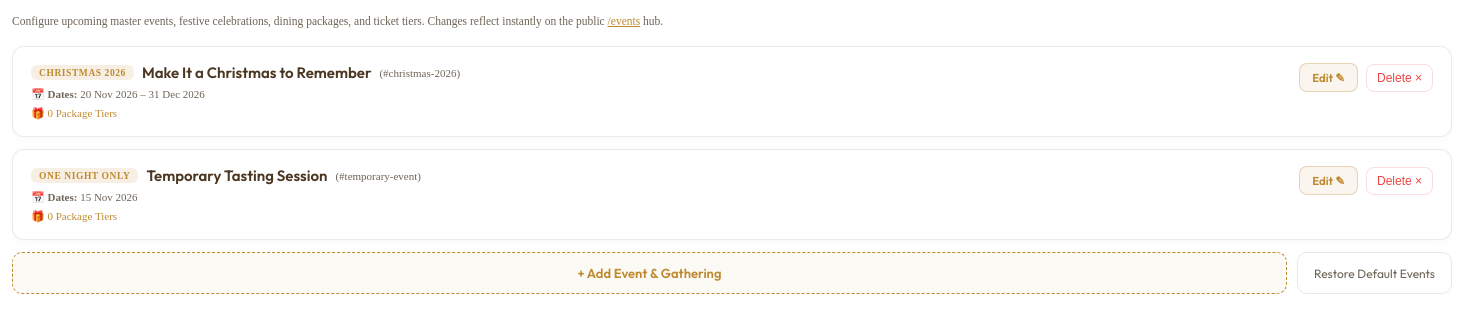
EventsManager: Staff Events & Gatherings Portal Management › allows staff to delete an event when confirmed
This screenshot has width=1464, height=311.
Expected: the heading "Temporary Tasting Session" is shown, x1=146 y1=166 x2=327 y2=185
// Click delete on the second event
Click the button "Delete ×" in the row of "temporary-event": (1400, 181) x1=1366 y1=167 x2=1433 y2=195
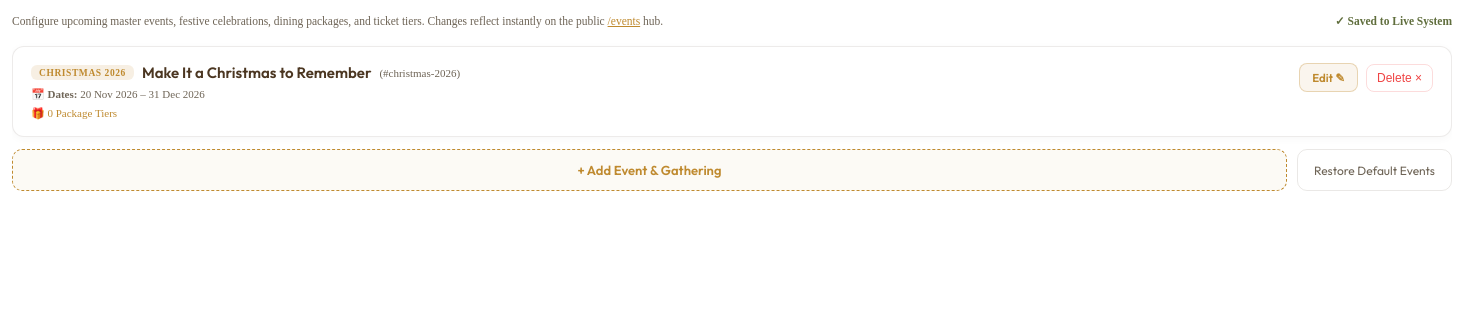
Expected: the heading "Make It a Christmas to Remember" is shown, x1=142 y1=63 x2=371 y2=82
Expected: the heading "Temporary Tasting Session" is gone
